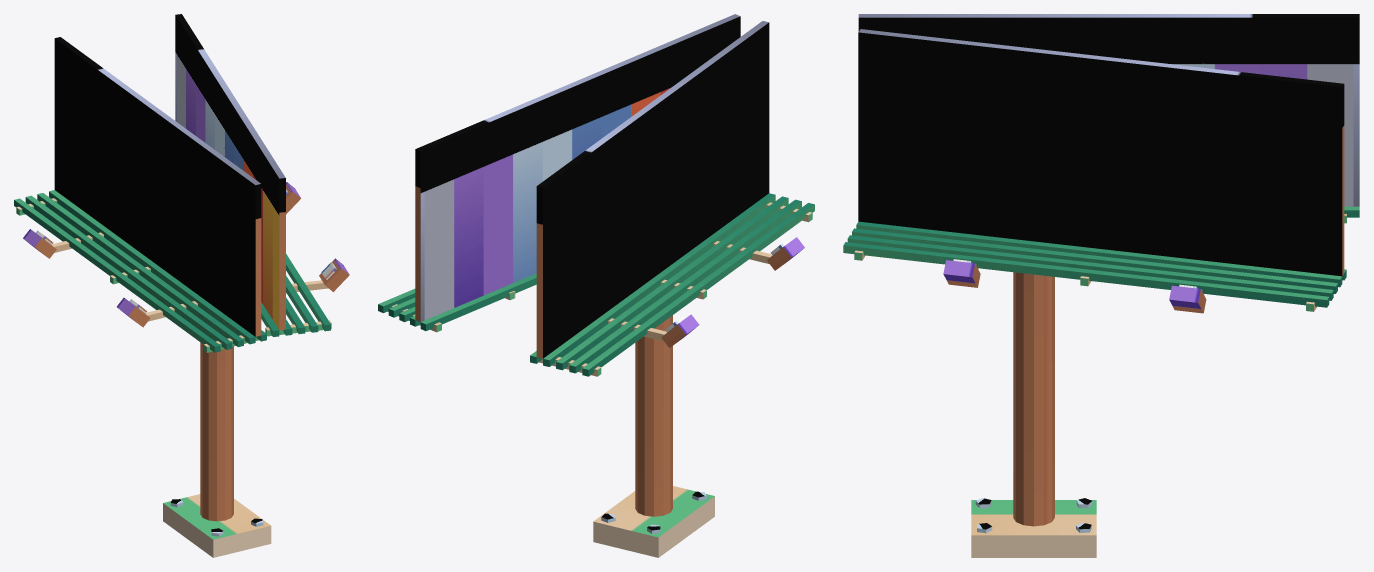
The model's file is Billboard.glb.
The picture shows the model from 3 angles, left to right: view 1: azimuth 30°, elevation 25°; view 2: azimuth 150°, elevation 25°; view 3: azimuth 270°, elevation 25°; orthographic projection. The views are drawn at different scales.
Visible parts, largest first — view 1: Billboard_2; view 2: Billboard_2; view 3: Billboard_2.
Boxes of the visible parts, <box> form: Billboard_2: <box>14,14,349,557</box>; Billboard_2: <box>378,14,814,557</box>; Billboard_2: <box>843,14,1359,557</box>.
Size of the model in its own units: 440 by 670 by 618.
1 material, 1 textured.
